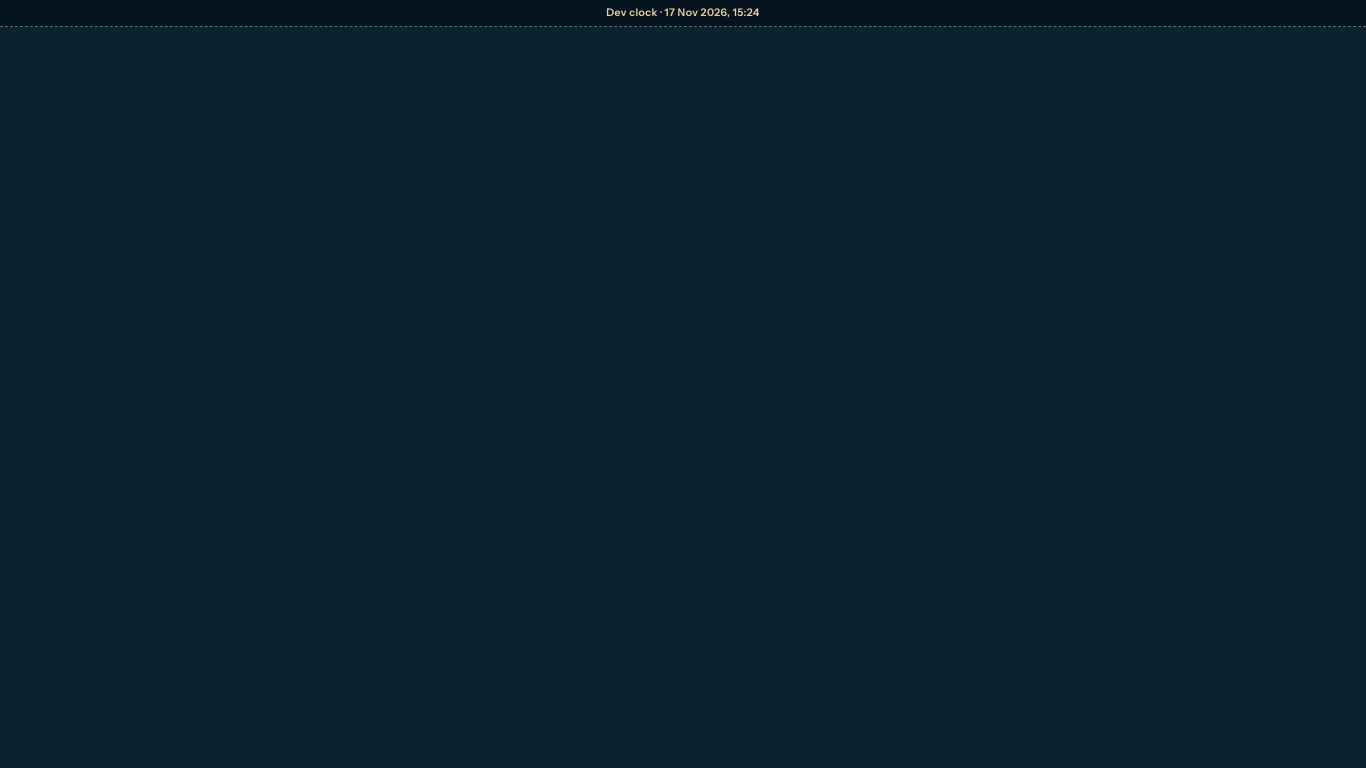
Test: Return to real time › asks first, and Cancel changes nothing
Later steps or results of the test are not shown.
Click the button "Dev clock · 17 Nov 2026, 15:24" at (683, 13), box [598, 0, 768, 26]
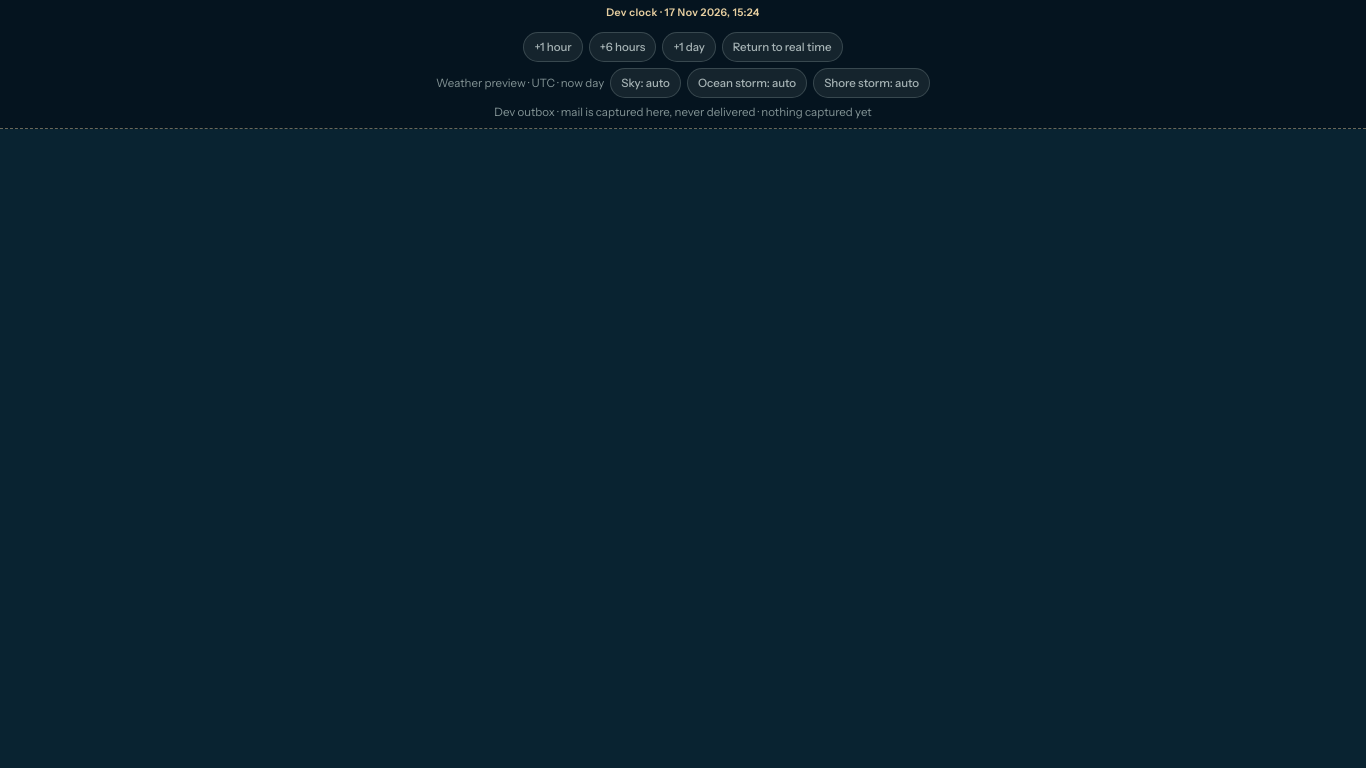
Click the button "Return to real time" at (782, 47), box [722, 32, 842, 62]
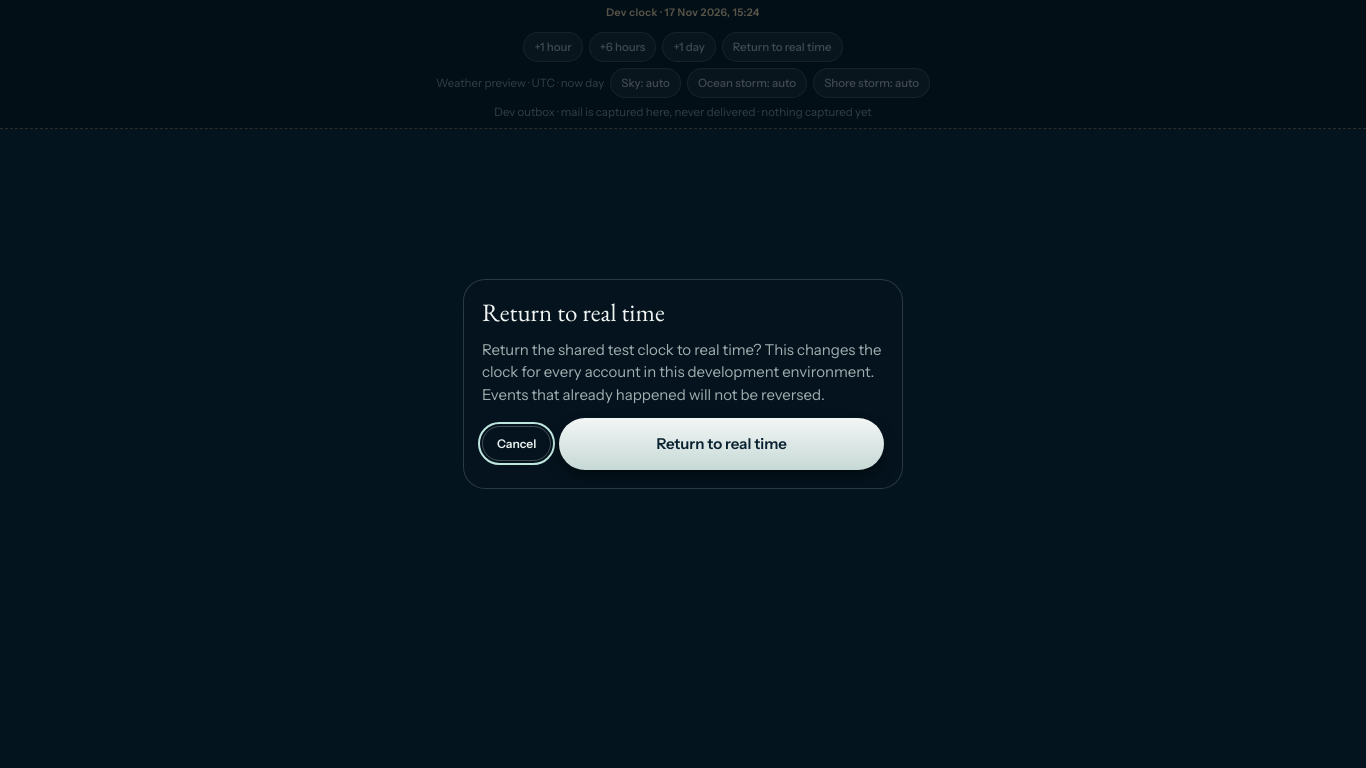
Expected: the dialog shows "Return the shared test clock to real time? This changes the clock for every account in this development environment. Events that already happened will not be re", [482, 340, 882, 404]
